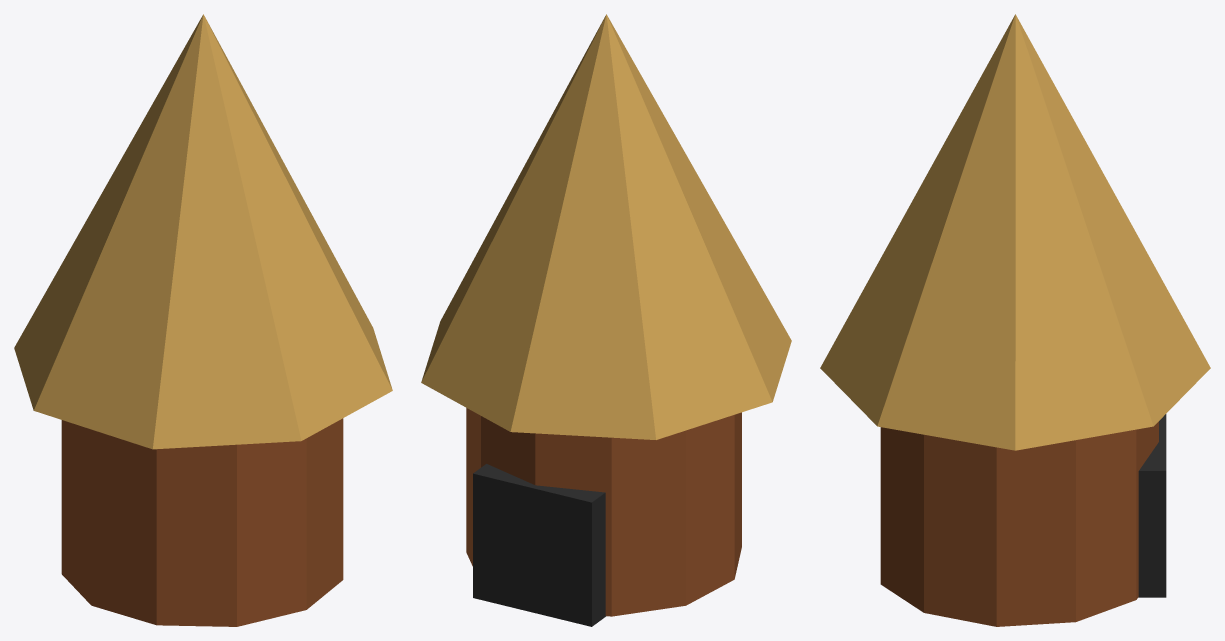
File: house.fbx
The picture shows the model from 3 angles, left to right: view 1: azimuth 30°, elevation 25°; view 2: azimuth 150°, elevation 25°; view 3: azimuth 270°, elevation 25°; orthographic projection. The views are drawn at different scales.
Parts seen in each view (by area): view 1: Cone, Cylinder; view 2: Cone, Cylinder, Cube; view 3: Cone, Cylinder, Cube.
Boxes of the visible parts, box(x1,y1,x2,y2) form: Cone: box(14, 14, 392, 449); Cylinder: box(61, 418, 343, 626); Cone: box(421, 14, 791, 439); Cylinder: box(466, 408, 741, 616); Cube: box(473, 464, 606, 626); Cone: box(820, 14, 1210, 450); Cylinder: box(880, 421, 1158, 626); Cube: box(1138, 414, 1166, 597).
Size of the model in its own units: 270 by 422 by 270.
